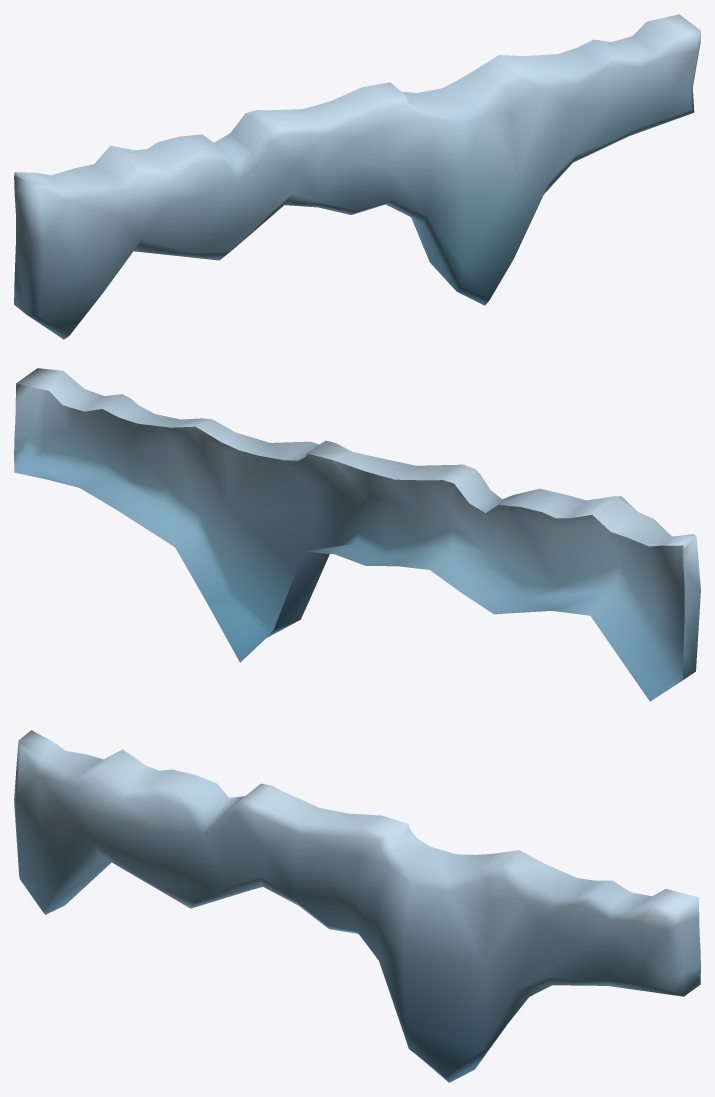
Rendered from Snow_cap_01.fbx.
3 renders of one model, top to bottom at view 1: azimuth 30°, elevation 25°; view 2: azimuth 150°, elevation 25°; view 3: azimuth 330°, elevation 25°, orthographic.
Parts seen in each view (by area): view 1: Snow_cap_01; view 2: Snow_cap_01; view 3: Snow_cap_01.
Part boxes in pixels (x1,y1,x2,y2): Snow_cap_01: (14, 14, 700, 339); Snow_cap_01: (14, 368, 700, 701); Snow_cap_01: (14, 730, 700, 1082).
Bounding box in the file's own units: 400 × 134 × 43.07.
